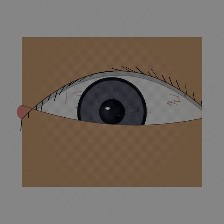pterygium_lesion: (24, 101, 52, 123)
